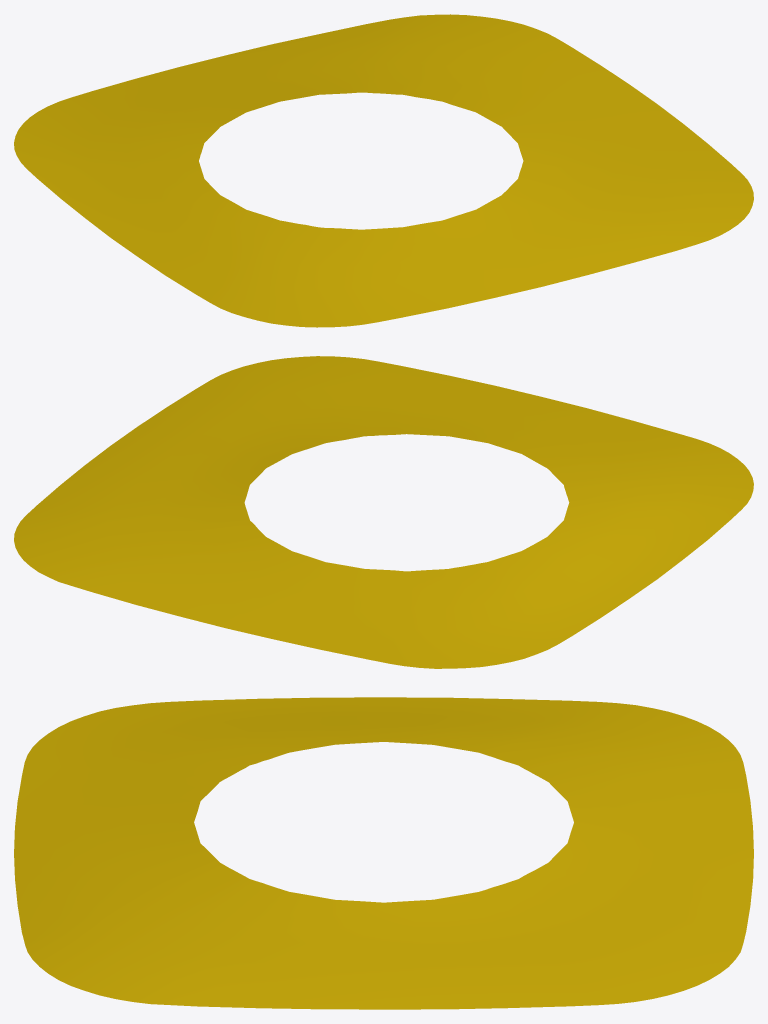
Rendered from original_5.obj.
3 renders of one model, top to bottom at view 1: azimuth 30°, elevation 25°; view 2: azimuth 150°, elevation 25°; view 3: azimuth 270°, elevation 25°, orthographic. The views are drawn at different scales.
Parts seen in each view (by area): view 1: group_4/ID34#ID34; view 2: group_4/ID34#ID34; view 3: group_4/ID34#ID34.
Boxes of the visible parts, box(x1,y1,x2,y2) form: group_4/ID34#ID34: box(14, 14, 753, 327); group_4/ID34#ID34: box(14, 356, 753, 668); group_4/ID34#ID34: box(14, 697, 753, 1009).
Size of the model in its own units: 0.5217 by 0.0144 by 0.5224.
